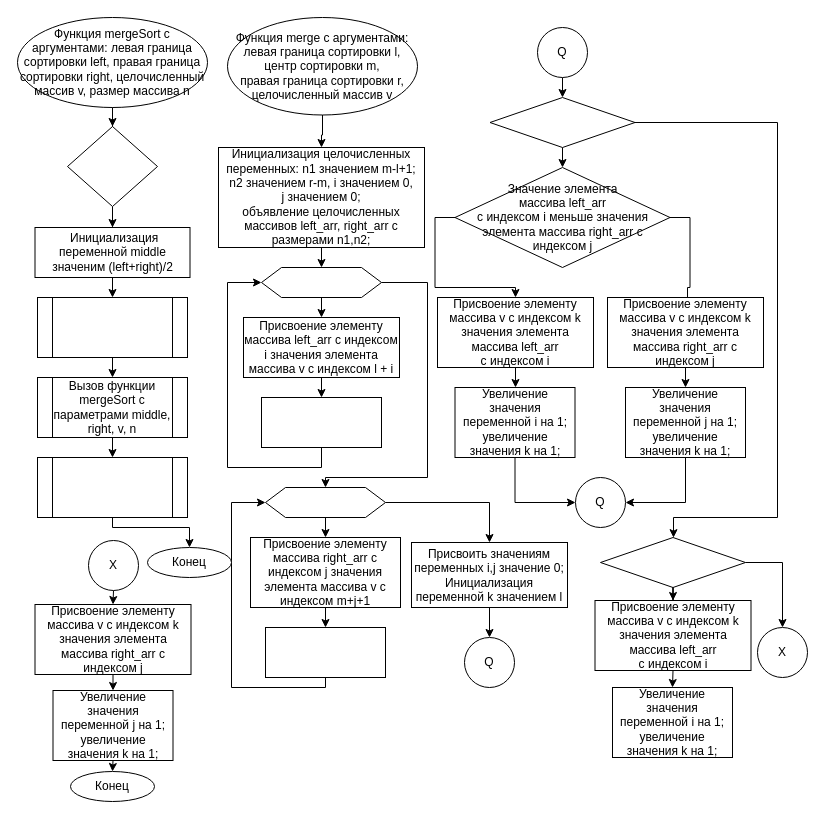
The diagram is 825 pixels wide and 819 high, and some of its shapes have lost their labels. Each missing label, with the centre of its shape:
i = 0..n1-1: the point at 321,282
i меньше n1: the point at 673,562
i меньше n1 и j меньше n2: the point at 562,122
j= 0..n2-1: the point at 325,502
Вызов функции merge с параметрами left, middle, right, v: the point at 112,487
Вызов функции mergeSort с параметрами left, middle, v, n: the point at 112,327
Левая граница не меньше правой: the point at 112,166
Увеличение значения переменной i на 1: the point at 321,422
Увеличение значения переменной j на 1: the point at 325,652
